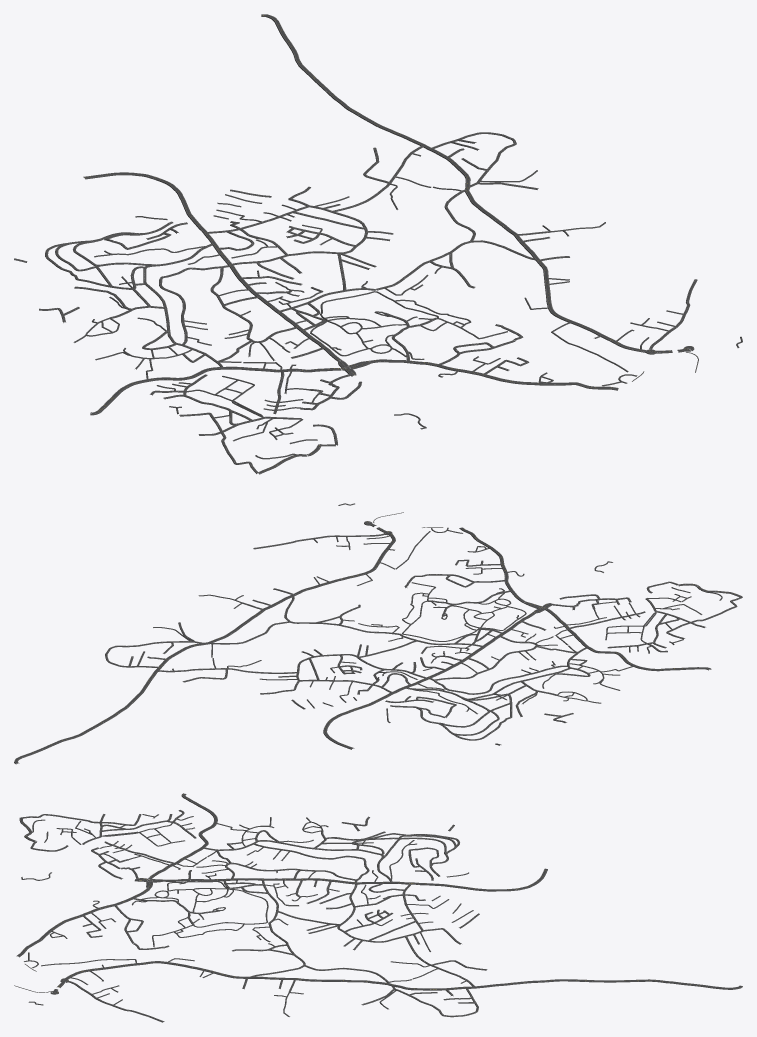
The model's file is osm_real_roads_T_E00_N01.glb.
3 renders of one model, top to bottom at view 1: azimuth 30°, elevation 25°; view 2: azimuth 150°, elevation 25°; view 3: azimuth 270°, elevation 25°, orthographic. The views are drawn at different scales.
Parts seen in each view (by area): view 1: OSM_Roads_T_E00_N01_taluy_embankment, OSM_Roads_T_E00_N01_asphalt_local, OSM_Roads_T_E00_N01_sidewalk_paver, OSM_Roads_T_E00_N01_asphalt_primary, OSM_Roads_T_E00_N01_granite_curb; view 2: OSM_Roads_T_E00_N01_taluy_embankment, OSM_Roads_T_E00_N01_asphalt_local, OSM_Roads_T_E00_N01_sidewalk_paver, OSM_Roads_T_E00_N01_asphalt_primary, OSM_Roads_T_E00_N01_granite_curb; view 3: OSM_Roads_T_E00_N01_taluy_embankment, OSM_Roads_T_E00_N01_asphalt_local, OSM_Roads_T_E00_N01_sidewalk_paver, OSM_Roads_T_E00_N01_asphalt_primary, OSM_Roads_T_E00_N01_granite_curb.
Boxes of the visible parts, box(x1,y1,x2,y2) form: OSM_Roads_T_E00_N01_taluy_embankment: box(14, 16, 742, 474); OSM_Roads_T_E00_N01_asphalt_local: box(14, 132, 742, 473); OSM_Roads_T_E00_N01_sidewalk_paver: box(15, 14, 698, 473); OSM_Roads_T_E00_N01_asphalt_primary: box(84, 14, 693, 413); OSM_Roads_T_E00_N01_granite_curb: box(17, 14, 696, 472); OSM_Roads_T_E00_N01_taluy_embankment: box(14, 503, 742, 764); OSM_Roads_T_E00_N01_asphalt_local: box(105, 503, 741, 744); OSM_Roads_T_E00_N01_sidewalk_paver: box(14, 512, 741, 763); OSM_Roads_T_E00_N01_asphalt_primary: box(15, 521, 710, 763); OSM_Roads_T_E00_N01_granite_curb: box(47, 522, 735, 747); OSM_Roads_T_E00_N01_taluy_embankment: box(14, 794, 742, 1022); OSM_Roads_T_E00_N01_asphalt_local: box(20, 810, 486, 1021); OSM_Roads_T_E00_N01_sidewalk_paver: box(15, 793, 742, 1020); OSM_Roads_T_E00_N01_asphalt_primary: box(17, 793, 741, 993); OSM_Roads_T_E00_N01_granite_curb: box(22, 796, 732, 1015).
Size of the model in its own units: 2395 by 74.9 by 3230.
7 materials, 5 textured.
